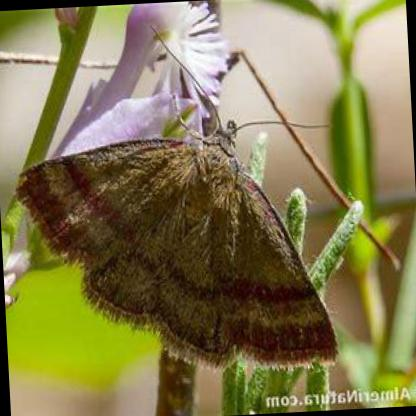Hellula undalis: (9, 18, 344, 377)
